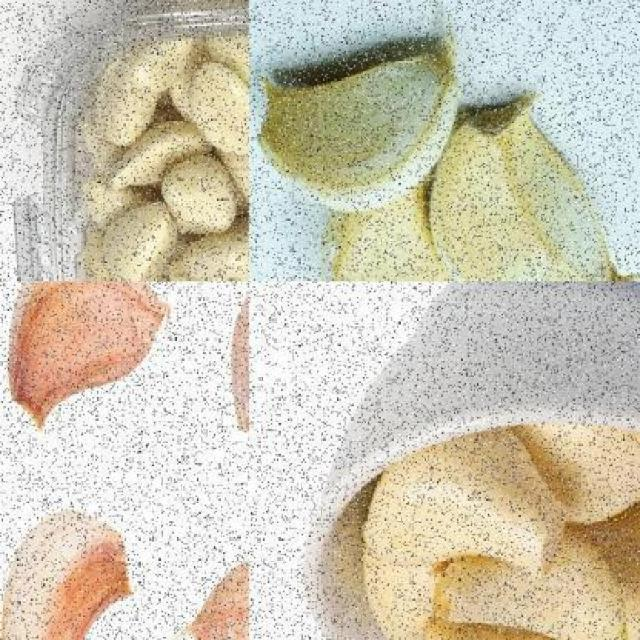garlic: (360, 411, 640, 638), (428, 84, 628, 281), (85, 40, 248, 280), (252, 47, 474, 221), (3, 282, 172, 441), (324, 157, 500, 280), (0, 506, 134, 640), (95, 64, 171, 152), (158, 156, 237, 240)
